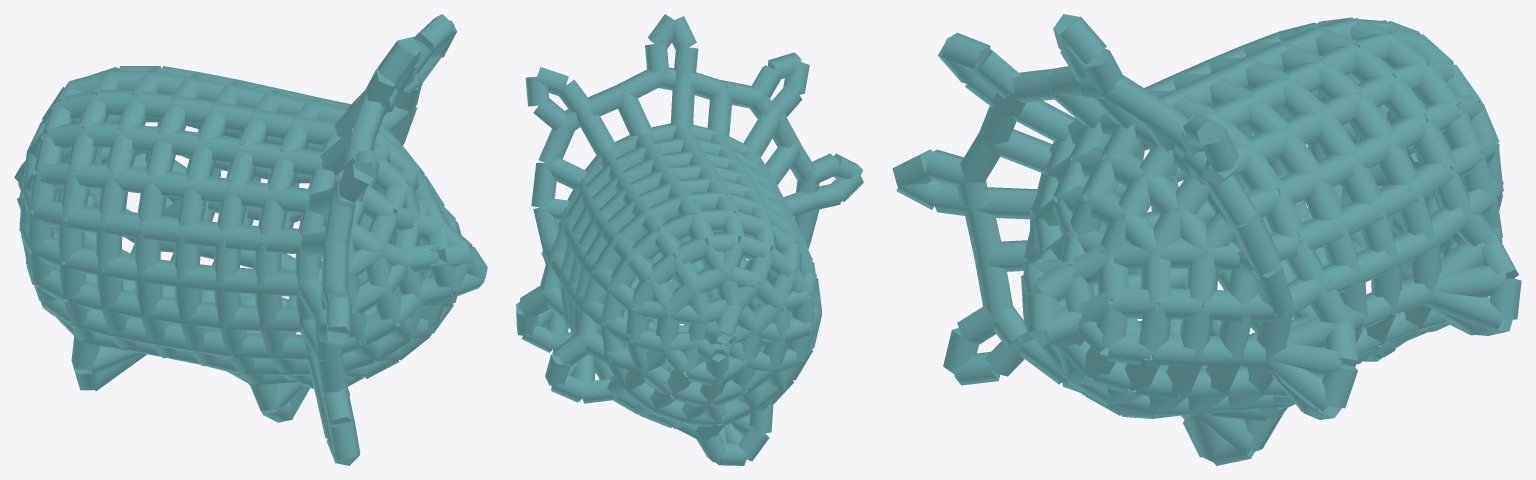
The model's file is Triceratops.gltf.
The picture shows the model from 3 angles, left to right: view 1: azimuth 30°, elevation 25°; view 2: azimuth 150°, elevation 25°; view 3: azimuth 270°, elevation 25°; orthographic projection. The views are drawn at different scales.
Bounding box in the file's own units: 1.52 × 1.58 × 1.87.
